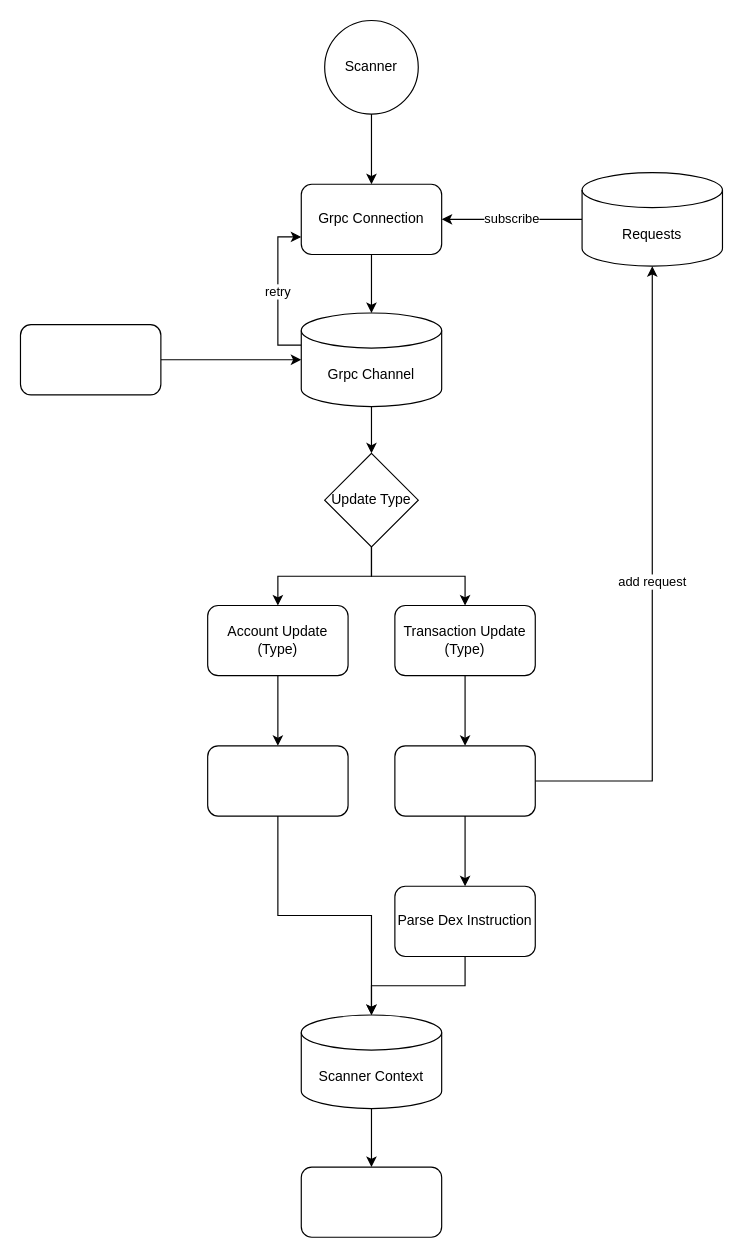
Image size: 743x1258. Some labels were removed from this diagram. Each missing label, with the centre of its shape:
Dashboard: point 371,1201
Get Mint Liqudity: point 277,780
Grpc: point 90,359
Parase Token Accounts: point 464,780
